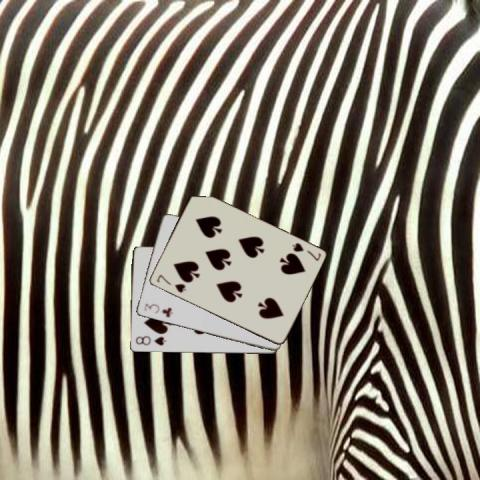3c: (141, 301, 174, 319)
7s: (154, 271, 188, 294), (289, 240, 322, 263)
8s: (132, 334, 167, 347)
